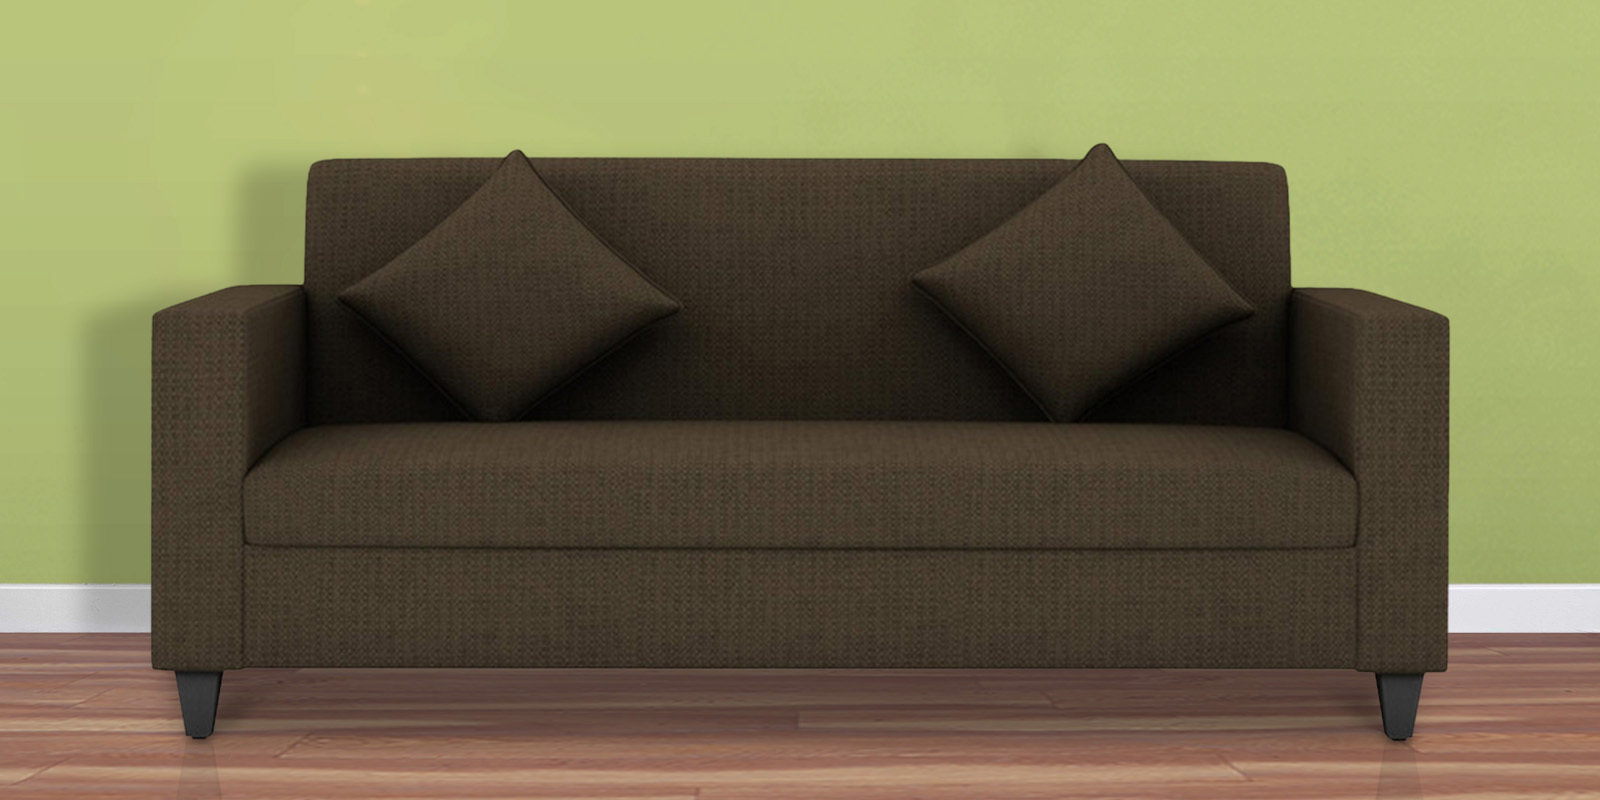Cooper Three Seater Sofa in Brown Colour by ARRA: (129, 136, 1461, 746)
